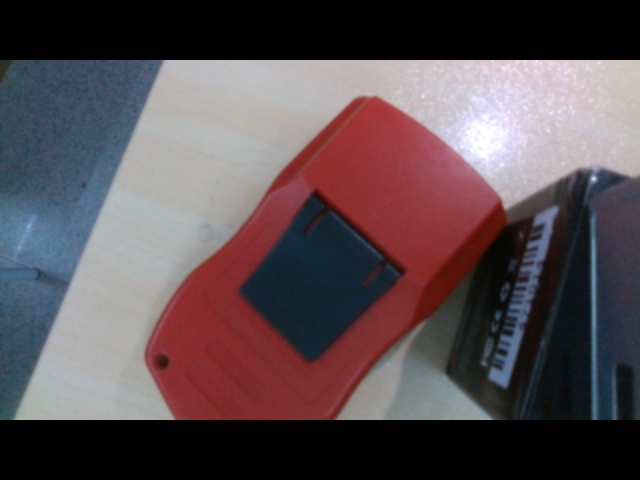Multimeter: (143, 96, 508, 422)
Screw holes: (153, 354, 170, 368)
